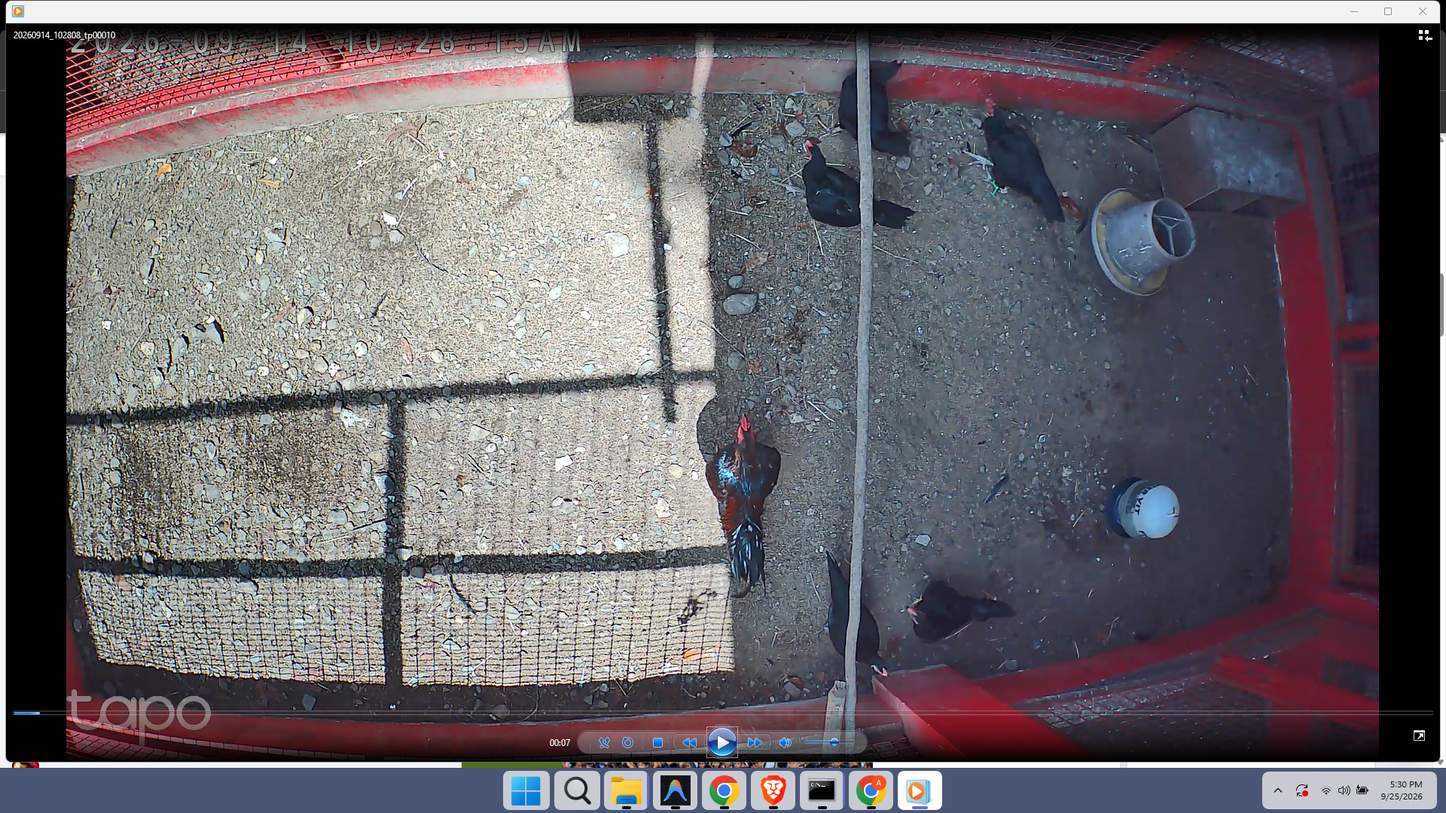Chicken: (770, 139, 918, 237), (962, 98, 1068, 225), (809, 552, 890, 678), (816, 54, 913, 154), (892, 576, 1022, 643)
Drinker: (1103, 474, 1180, 543)
Feeder: (1088, 186, 1200, 298)
Leg_Band_Green: (989, 177, 999, 198)
Rooster: (697, 414, 784, 601)
